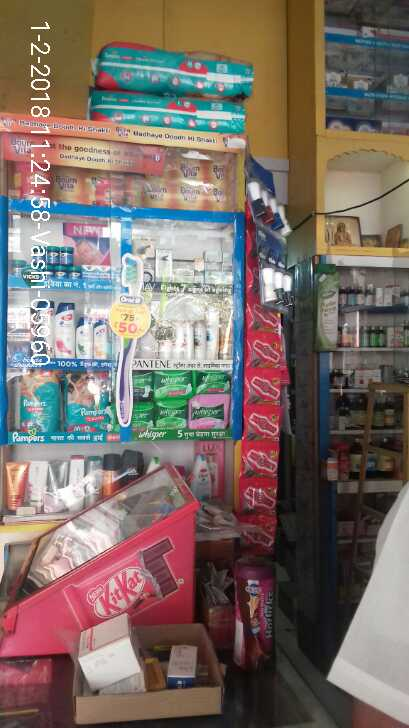beauty: (55, 303, 74, 358), (75, 316, 95, 359), (205, 308, 220, 360), (154, 250, 172, 283), (94, 317, 108, 359), (173, 261, 194, 283), (193, 323, 205, 360), (182, 320, 193, 360), (191, 258, 205, 284), (205, 256, 223, 272)
pharmacy: (91, 42, 257, 97), (89, 89, 253, 135), (63, 371, 117, 432), (12, 372, 63, 434), (149, 370, 195, 399), (188, 396, 229, 428), (153, 398, 187, 430), (194, 371, 229, 394), (46, 243, 62, 266), (81, 264, 98, 284), (59, 244, 72, 266), (54, 265, 68, 280), (97, 265, 111, 280), (68, 266, 81, 280)
